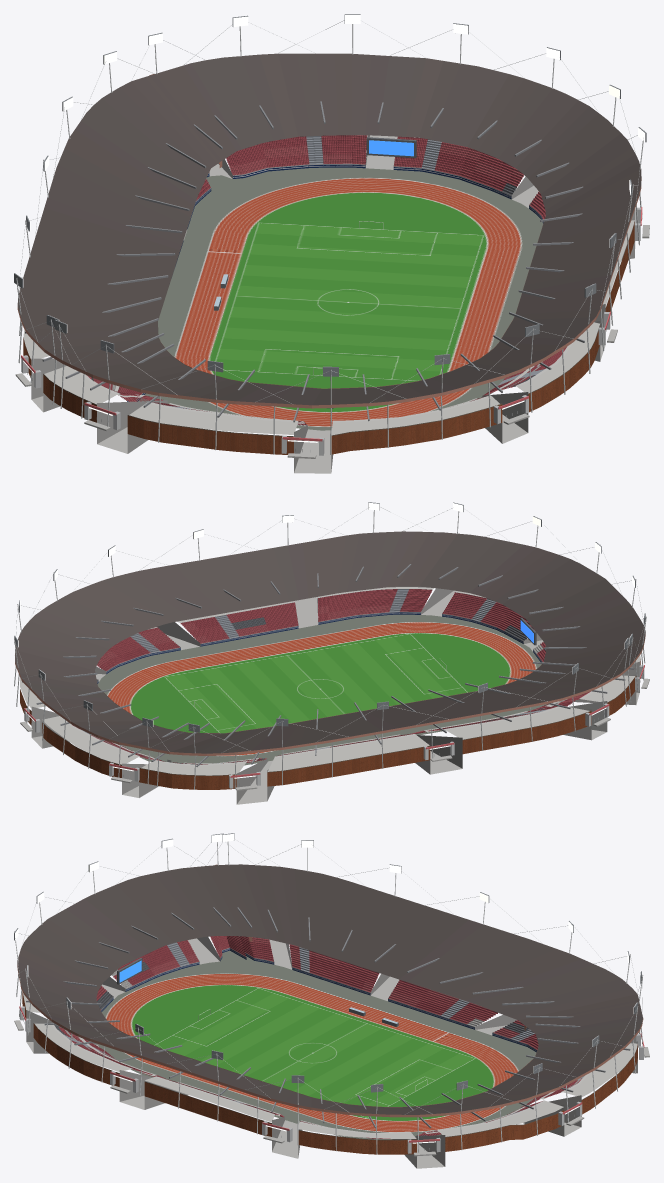
The model's file is letzigrund.glb.
3 views of the same model, one above another, from view 1: azimuth 30°, elevation 25°; view 2: azimuth 150°, elevation 25°; view 3: azimuth 270°, elevation 25° (orthographic). The views are drawn at different scales.
Bounding box in the file's own units: 232 × 36.44 × 244.
9 materials, 7 textured.
